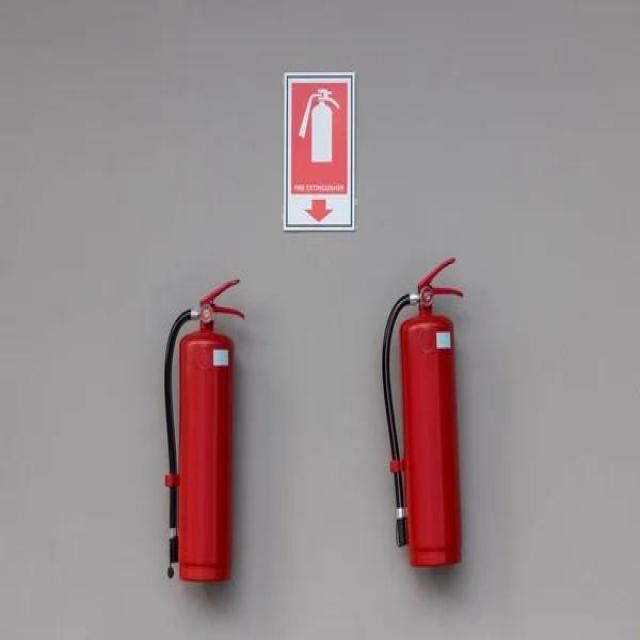fire_extinguisher: (378, 250, 468, 568), (158, 274, 248, 586)
